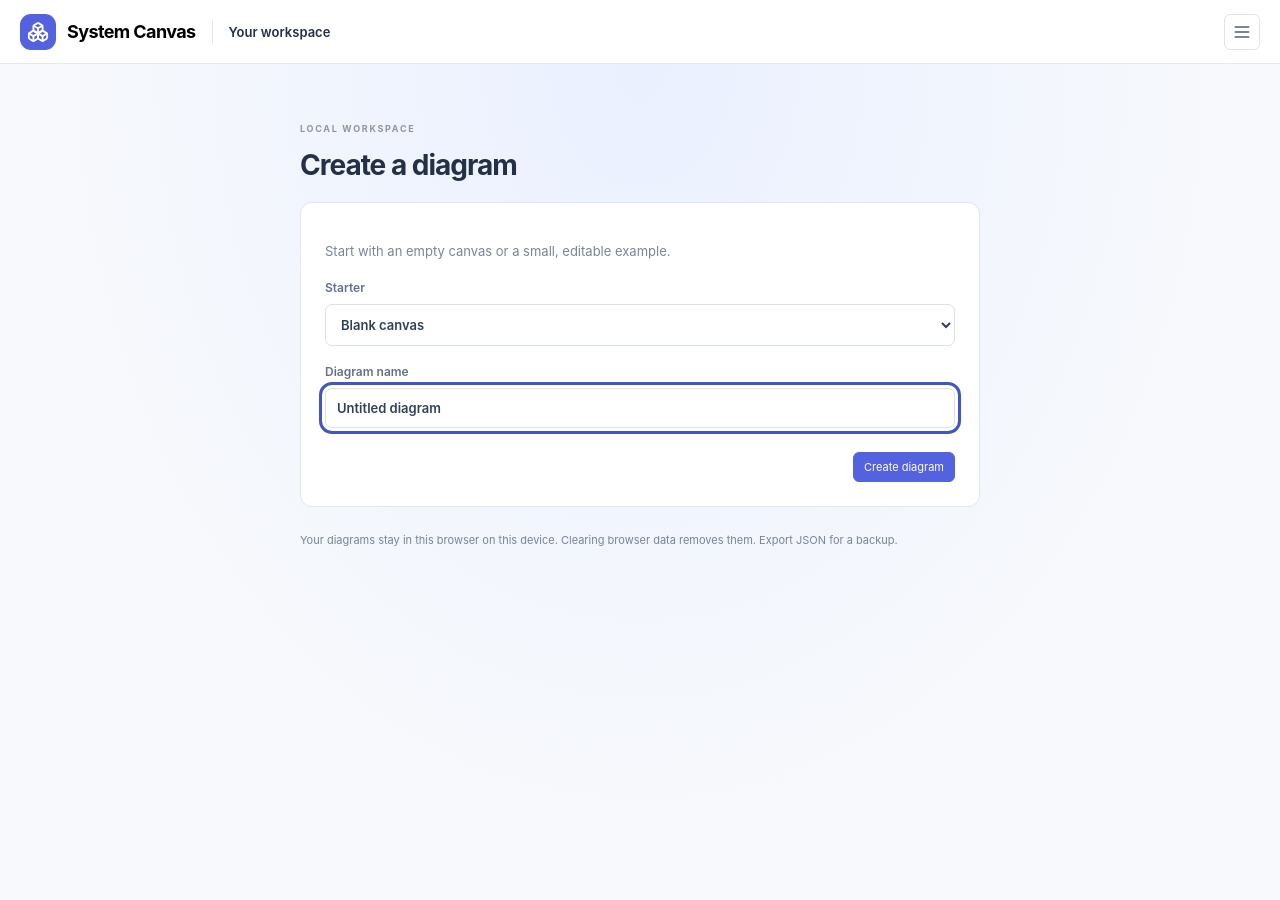
Clean up is disabled for an empty document
The width and height of the screenshot is (1280, 900).
expect the heading "Create a diagram" is shown: met, box [300,148,517,182]
Click the button "Create diagram": (904, 467) [853,452,955,482]
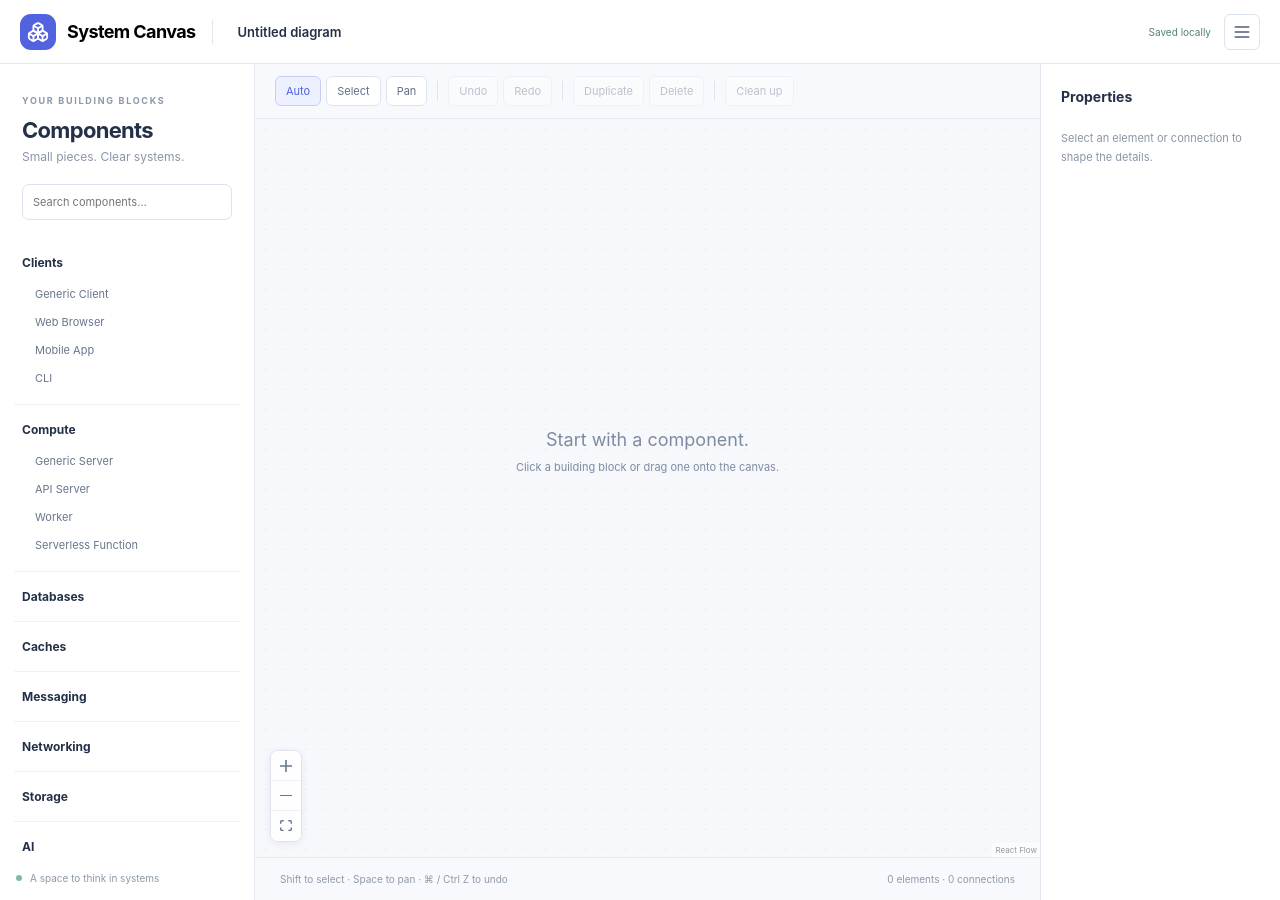
expect the element showing "Auto Select Pan Undo Redo Duplicate Delete Clean up" is shown: met, box [275,76,794,106]
expect the button "Clean up" is disabled: met, box [725,76,794,106]
